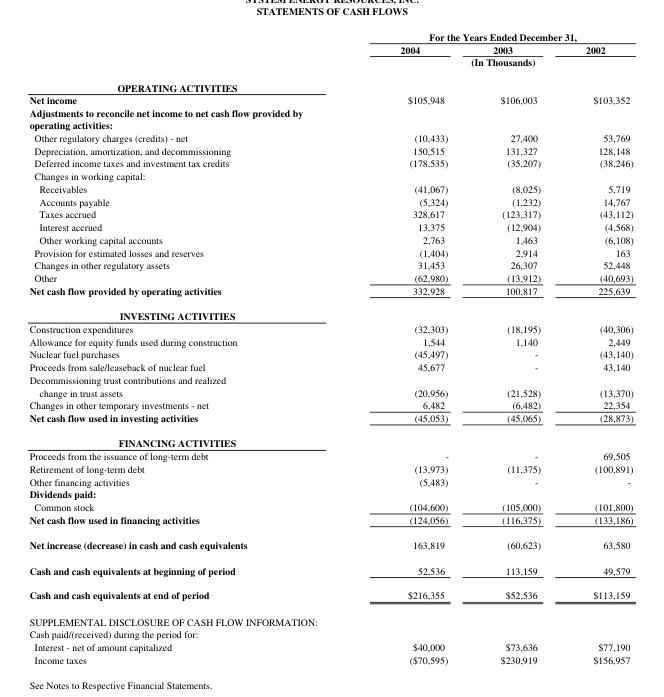table: (28, 29, 632, 665)
table column: (28, 29, 323, 665), (323, 29, 470, 665), (470, 29, 562, 665), (562, 29, 632, 665)
table column header: (28, 29, 632, 74)
table projected row header: (28, 106, 632, 130), (28, 302, 632, 322), (28, 607, 632, 627), (28, 74, 632, 93), (28, 430, 632, 449), (28, 168, 632, 181), (28, 372, 632, 385), (28, 487, 632, 500), (28, 627, 632, 639)
table row: (28, 531, 632, 557), (28, 557, 632, 582), (28, 582, 632, 607), (28, 106, 632, 130), (28, 302, 632, 322), (28, 410, 632, 430), (28, 607, 632, 627), (28, 55, 632, 74), (28, 74, 632, 93), (28, 283, 632, 302), (28, 430, 632, 449), (28, 512, 632, 531), (28, 29, 632, 42), (28, 42, 632, 55), (28, 93, 632, 106), (28, 130, 632, 143), (28, 143, 632, 156), (28, 168, 632, 181), (28, 181, 632, 194), (28, 194, 632, 207), (28, 219, 632, 232), (28, 232, 632, 245), (28, 245, 632, 258), (28, 270, 632, 283), (28, 334, 632, 347), (28, 359, 632, 372), (28, 372, 632, 385), (28, 385, 632, 398), (28, 461, 632, 474), (28, 474, 632, 487), (28, 487, 632, 500), (28, 639, 632, 652), (28, 652, 632, 665), (28, 156, 632, 168), (28, 207, 632, 219), (28, 258, 632, 270), (28, 322, 632, 334), (28, 347, 632, 359), (28, 398, 632, 410), (28, 449, 632, 461), (28, 500, 632, 512), (28, 627, 632, 639)
table spanning cell: (323, 55, 632, 74), (323, 29, 632, 42)
